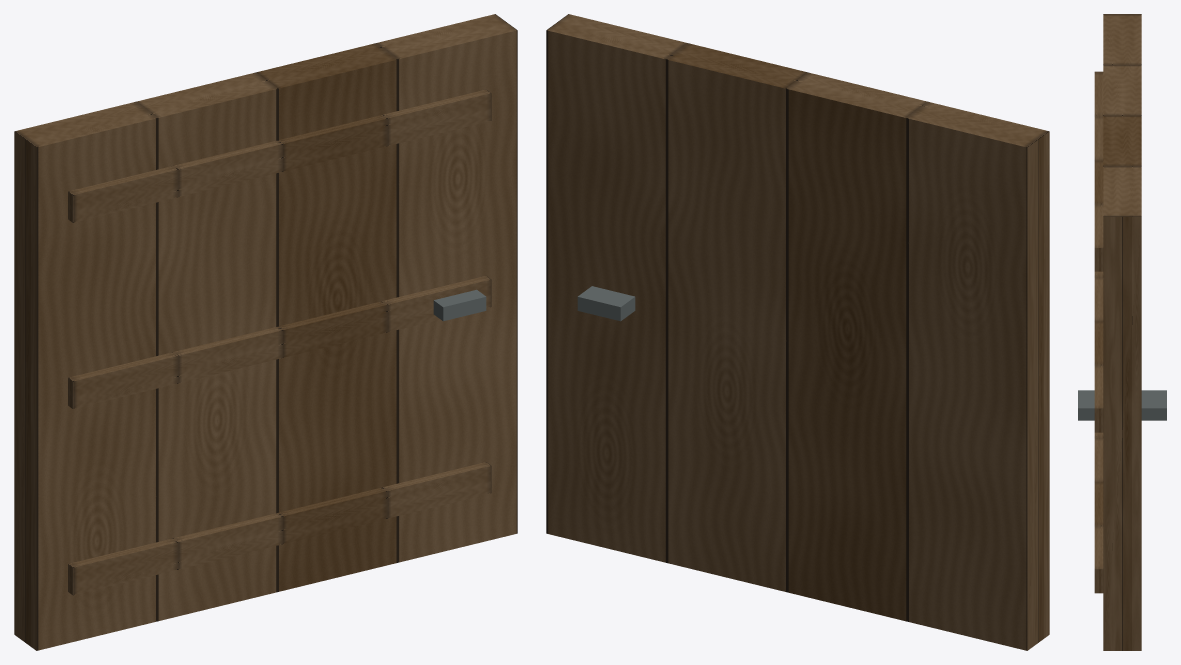
Rendered from DoorPanel.glb.
The picture shows the model from 3 angles, left to right: view 1: azimuth 30°, elevation 25°; view 2: azimuth 150°, elevation 25°; view 3: azimuth 270°, elevation 25°; orthographic projection. The views are drawn at different scales.
Parts seen in each view (by area): view 1: Wood, Handle; view 2: Wood, Handle; view 3: Wood, Handle.
Boxes of the visible parts, <box> form: Wood: <box>14,14,517,650</box>; Handle: <box>433,289,486,321</box>; Wood: <box>546,14,1049,650</box>; Handle: <box>577,286,635,321</box>; Wood: <box>1094,14,1141,650</box>; Handle: <box>1078,390,1166,420</box>.
Size of the model in its own units: 1 by 1 by 0.185.
2 materials, 1 textured.
